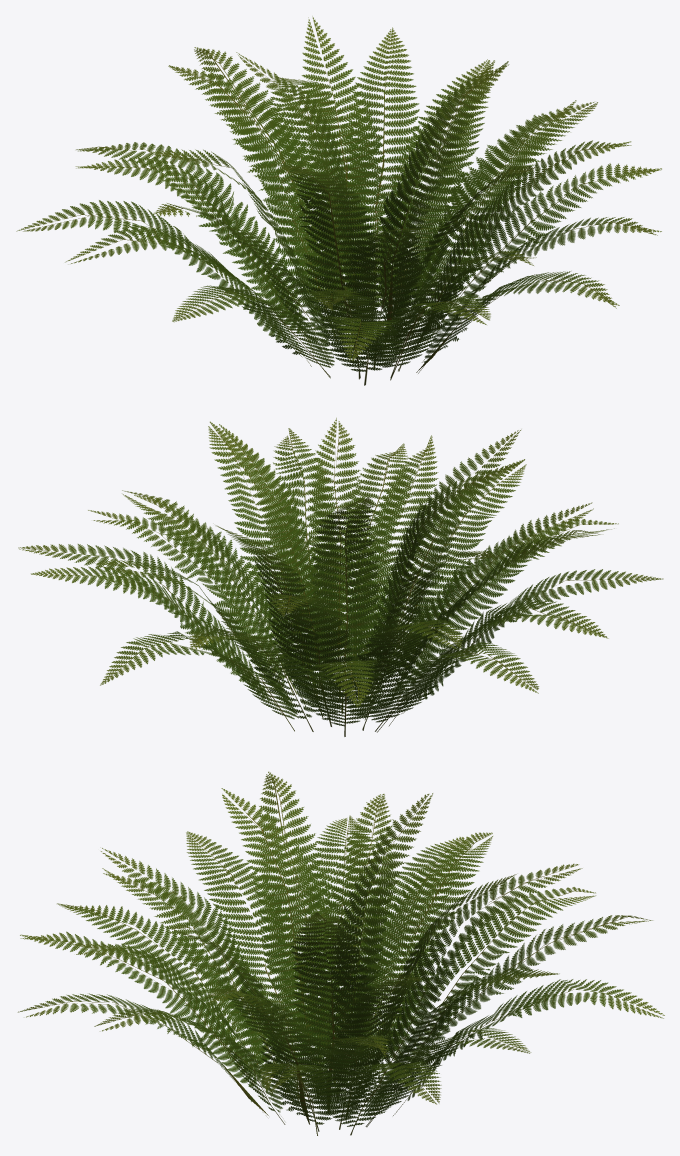
Rendered from veg_3d_fern_01.glb.
3 views of the same model, one above another, from view 1: azimuth 30°, elevation 25°; view 2: azimuth 150°, elevation 25°; view 3: azimuth 270°, elevation 25° (orthographic). The views are drawn at different scales.
Visible parts, largest first — view 1: Fern_Fern_0; view 2: Fern_Fern_0; view 3: Fern_Fern_0.
Boxes of the visible parts, box(x1,y1,x2,y2) form: Fern_Fern_0: box(16, 16, 661, 385); Fern_Fern_0: box(18, 418, 663, 736); Fern_Fern_0: box(18, 771, 664, 1135).
Bounding box in the file's own units: 1.46 × 0.6878 × 1.44.
1 material, 1 textured.
